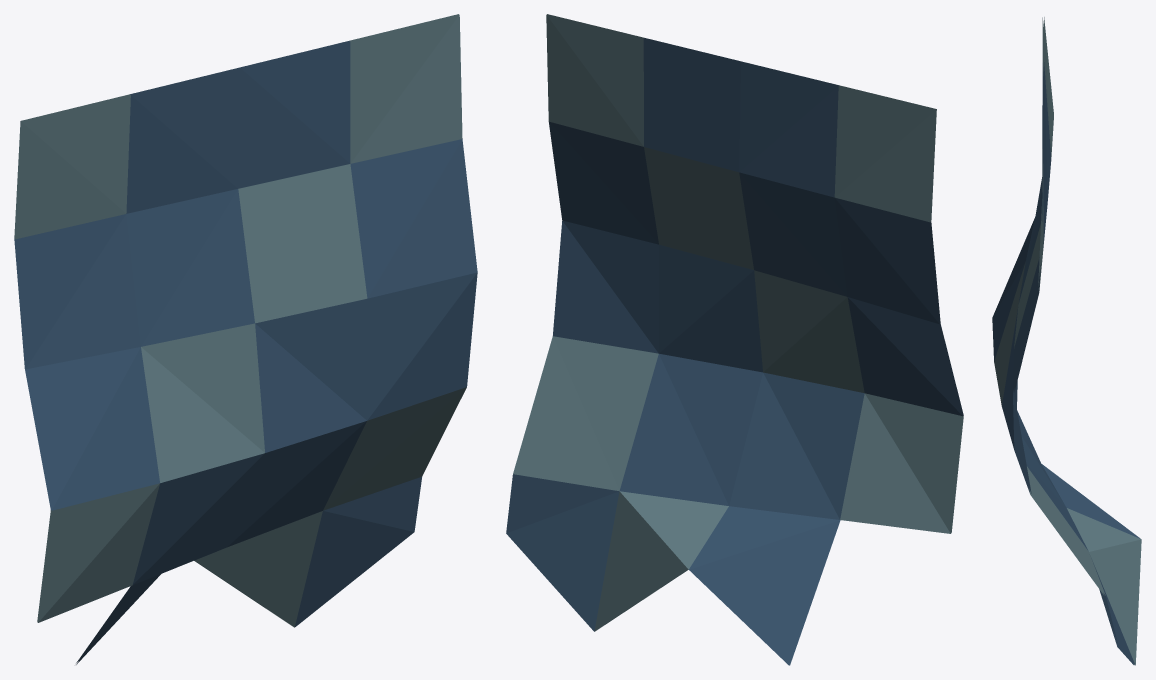
The model's file is plastic_flap_f3.glb.
3 renders of one model, left to right at view 1: azimuth 30°, elevation 25°; view 2: azimuth 150°, elevation 25°; view 3: azimuth 270°, elevation 25°, orthographic. The views are drawn at different scales.
Visible parts, largest first — view 1: plastic_flap_f3; view 2: plastic_flap_f3; view 3: plastic_flap_f3.
Boxes of the visible parts, box(x1,y1,x2,y2) form: plastic_flap_f3: box(14, 14, 477, 664); plastic_flap_f3: box(506, 14, 963, 665); plastic_flap_f3: box(992, 17, 1141, 665).
Size of the model in its own units: 1.2 by 1.64 by 0.4278.
Materials: 2 (2 with a texture image).
